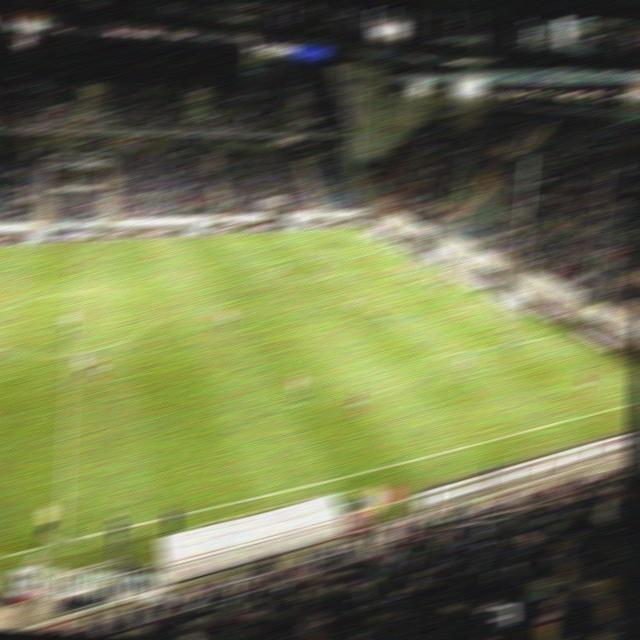bigarea_bottom_inner: (427, 351, 445, 362)
bigarea_bottom_outter: (540, 333, 556, 342)
bigarea_top_inner: (292, 246, 310, 258)
bigarea_top_outter: (377, 242, 395, 252)
bottom_arc_area_intersection: (370, 304, 388, 315)
corner: (343, 224, 360, 234)
halfcircle_bottom: (61, 347, 79, 361)
halfcircle_top: (63, 285, 82, 298)
midline_bottom_intersection: (44, 528, 78, 554)
midline_top_intersection: (68, 239, 84, 248)
smallarea_bottom_inner: (449, 302, 467, 312)
smallarea_bottom_outter: (482, 298, 498, 307)
smallarea_top_inner: (383, 261, 400, 272)
smallarea_top_outter: (411, 258, 428, 269)
top_arc_area_intersection: (323, 268, 339, 279)
